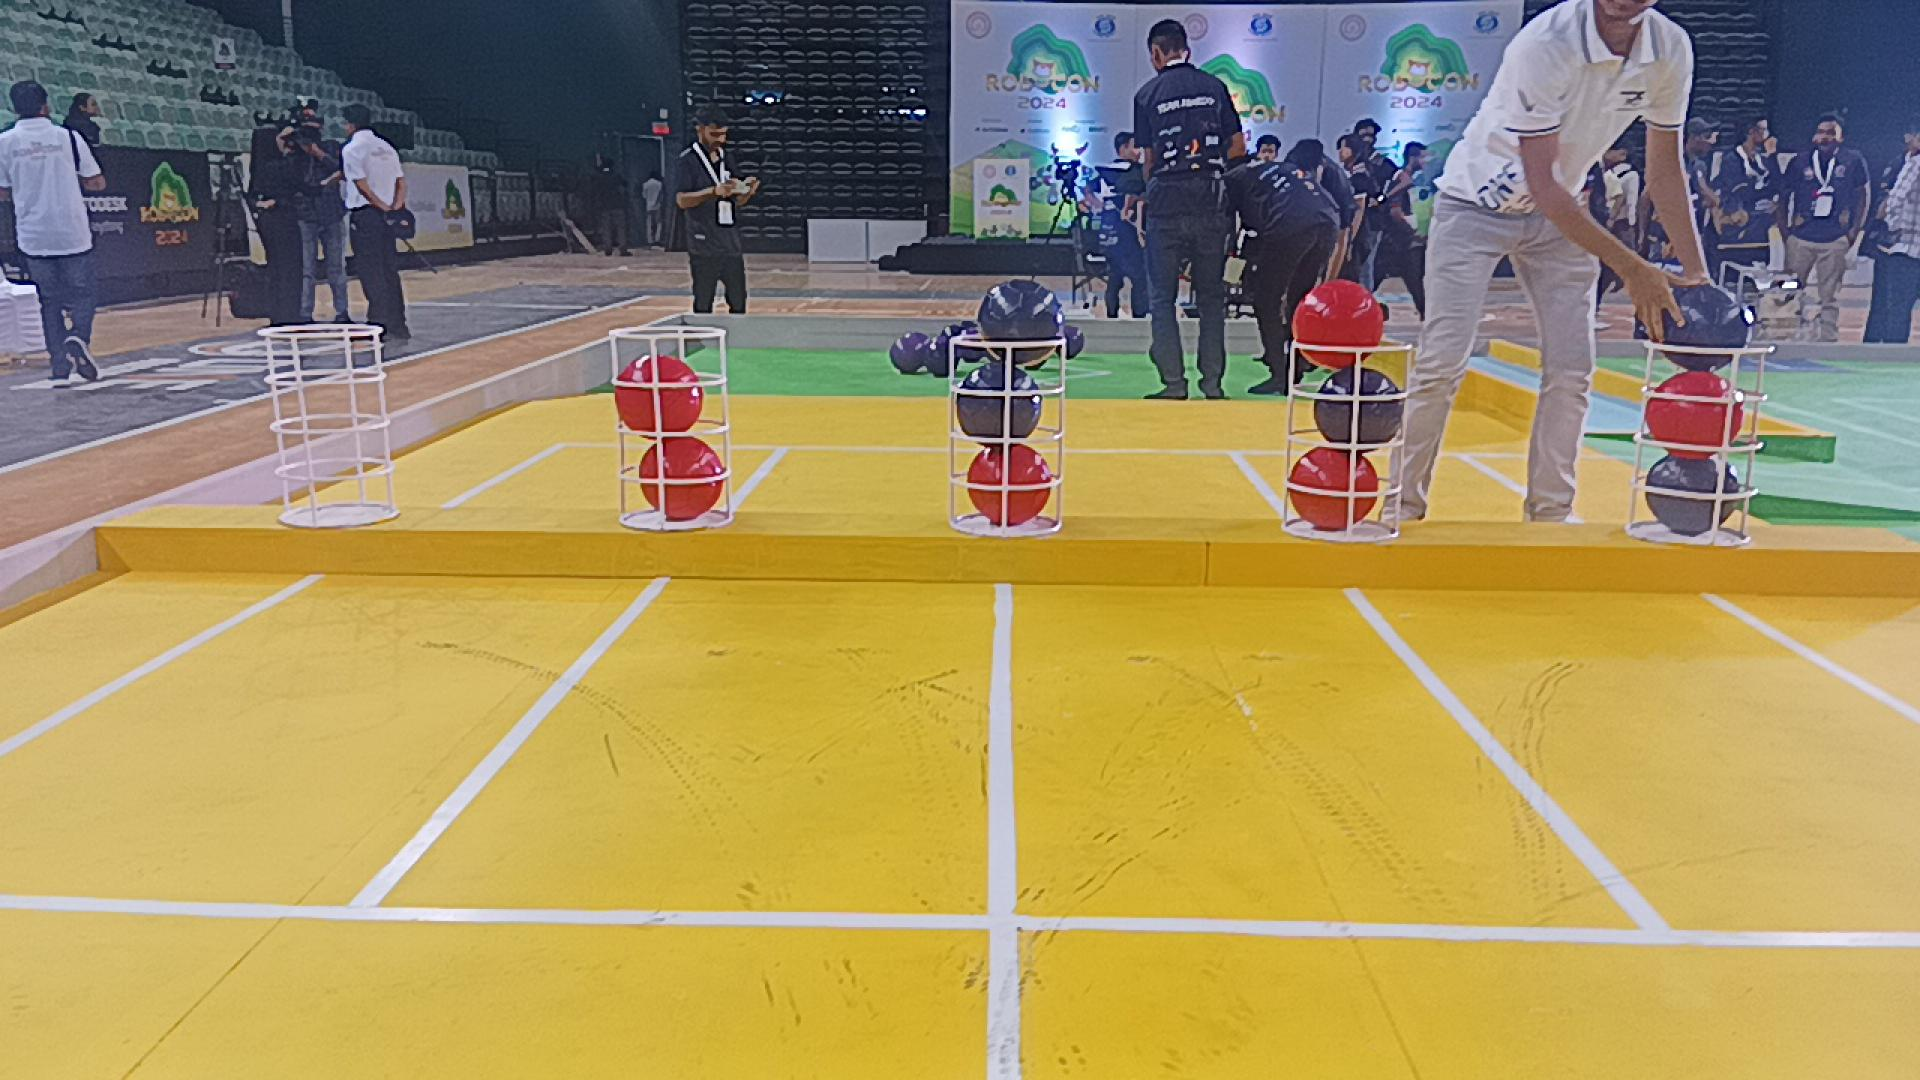dhoka: (975, 277, 1065, 364), (1665, 285, 1755, 372), (1646, 454, 1741, 534), (956, 360, 1039, 443), (1312, 368, 1403, 443)
laale: (1646, 372, 1743, 458), (1290, 277, 1383, 365), (1290, 446, 1379, 530), (637, 435, 724, 521), (968, 443, 1054, 525), (615, 356, 705, 431)
